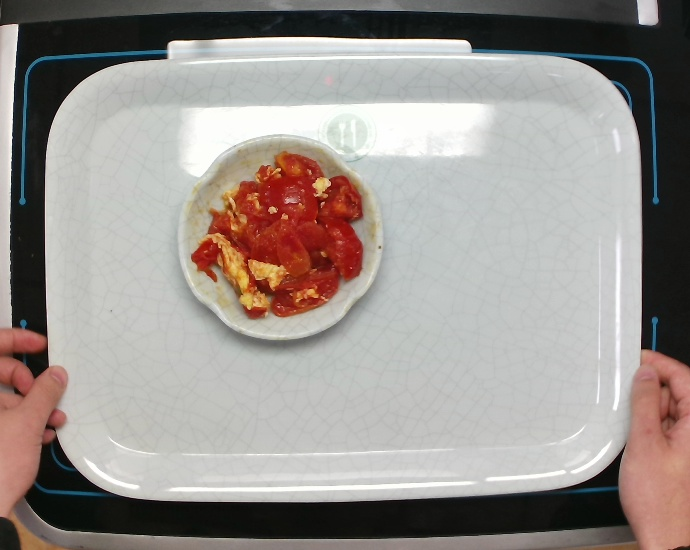JYsf-Ao_Yuan_Wan: (165, 130, 387, 349)
